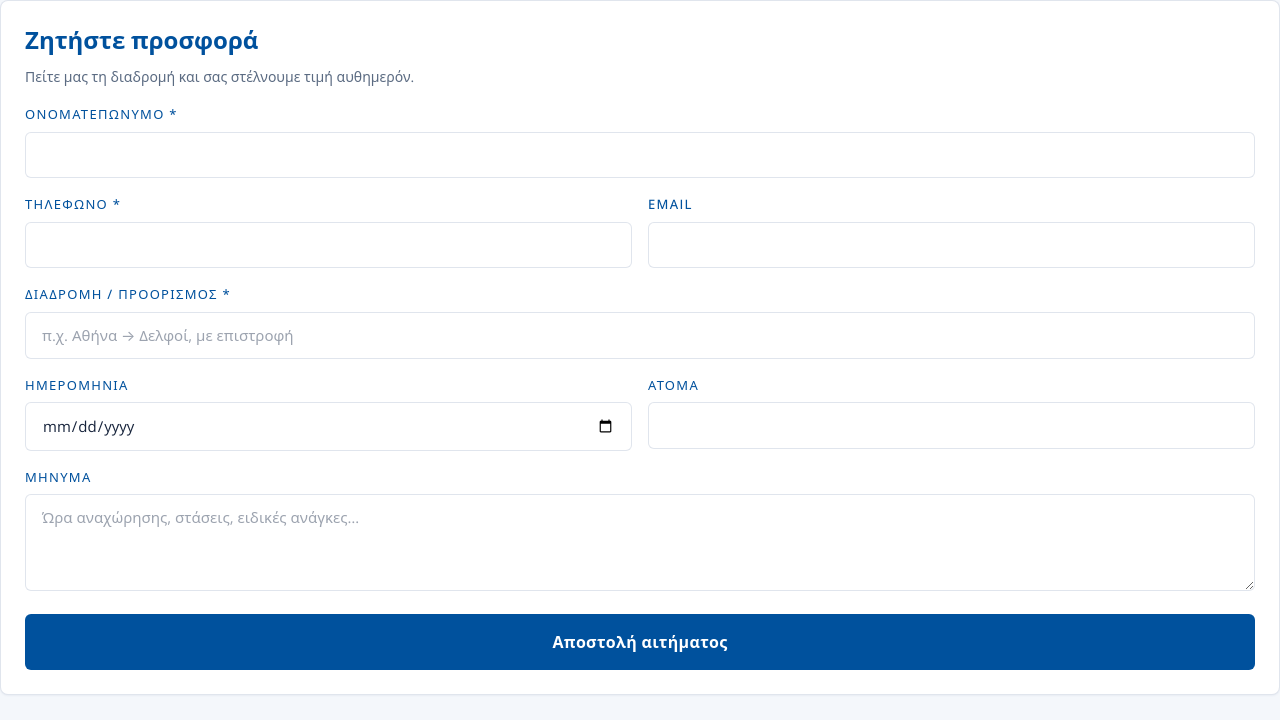
Test: PoylmanQuoteForm › αποτυχία κρατά τη φόρμα και δείχνει μήνυμα σφάλματος
The image size is (1280, 720).
Type "Μαρία Π." into the field labelled "Ονοματεπώνυμο *" at [640, 155], box [25,132,1255,178]
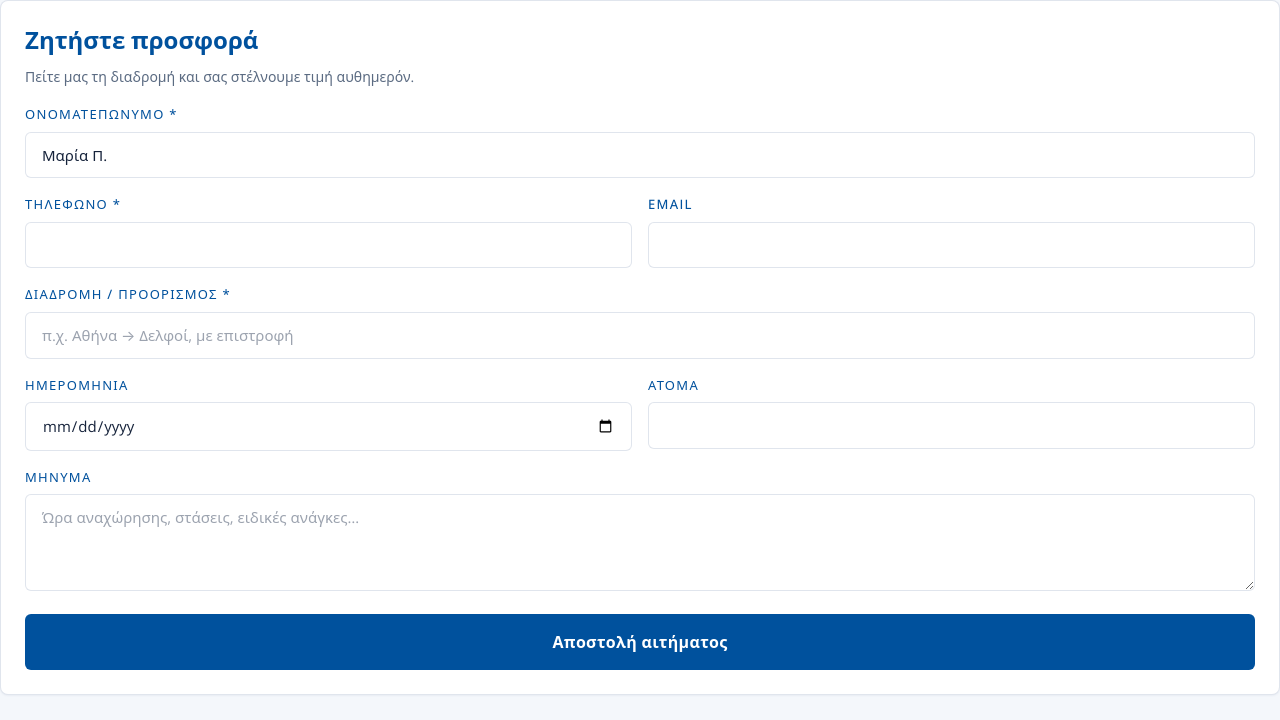
Type "6900000000" into the field labelled "Τηλέφωνο *" at [328, 245], box [25,222,632,268]
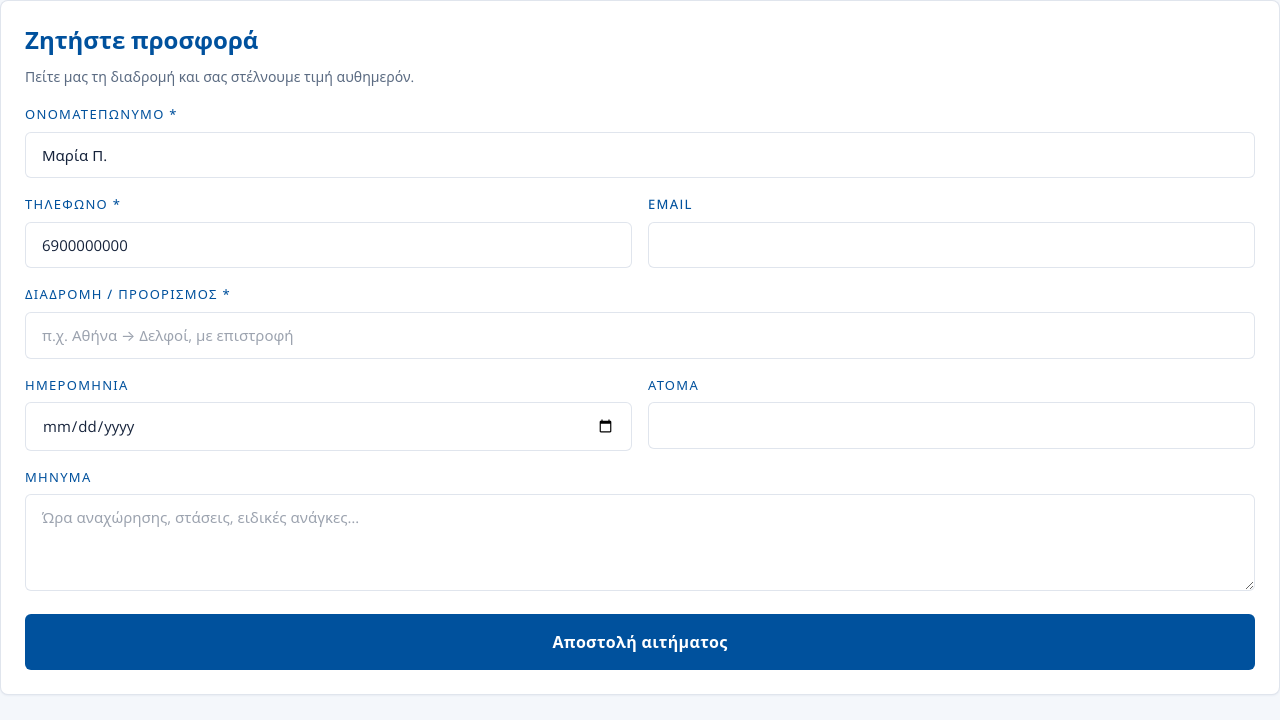
Type "Αθήνα → Δελφοί" into the field labelled "Διαδρομή / Προορισμός *" at [640, 335], box [25,312,1255,359]
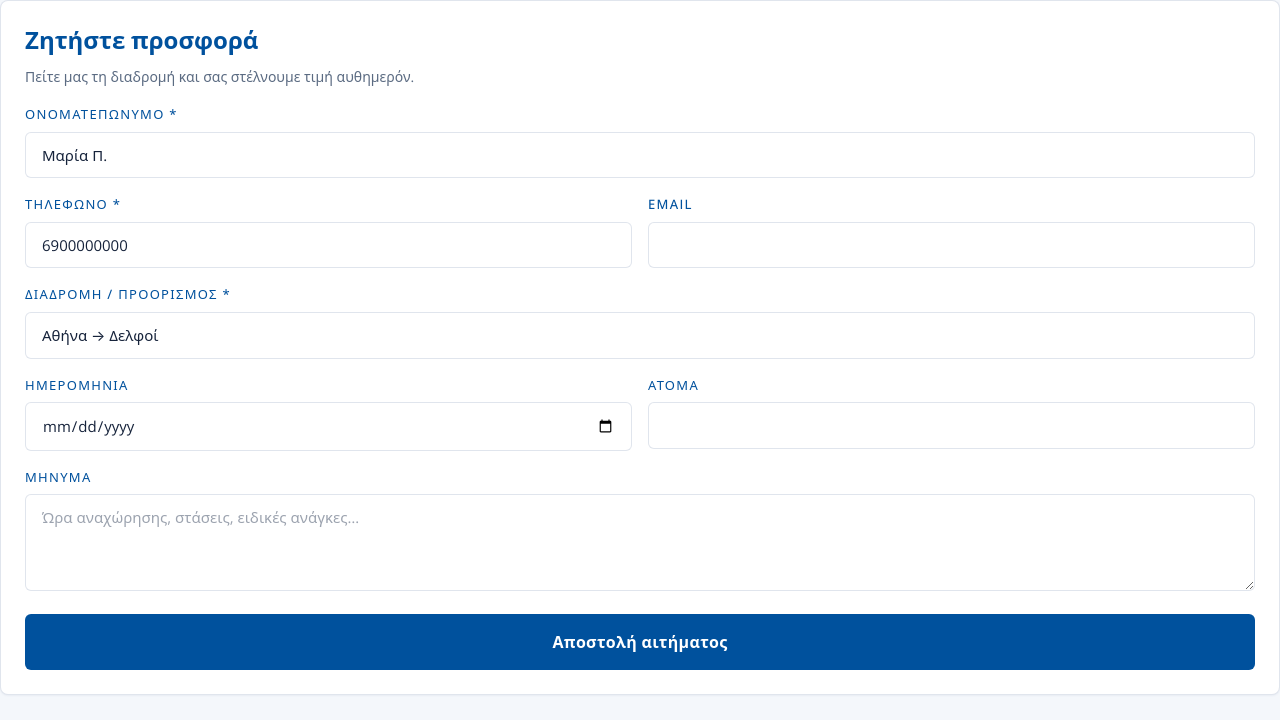
Click the button "Αποστολή αιτήματος" at [640, 642], box [25,614,1255,670]
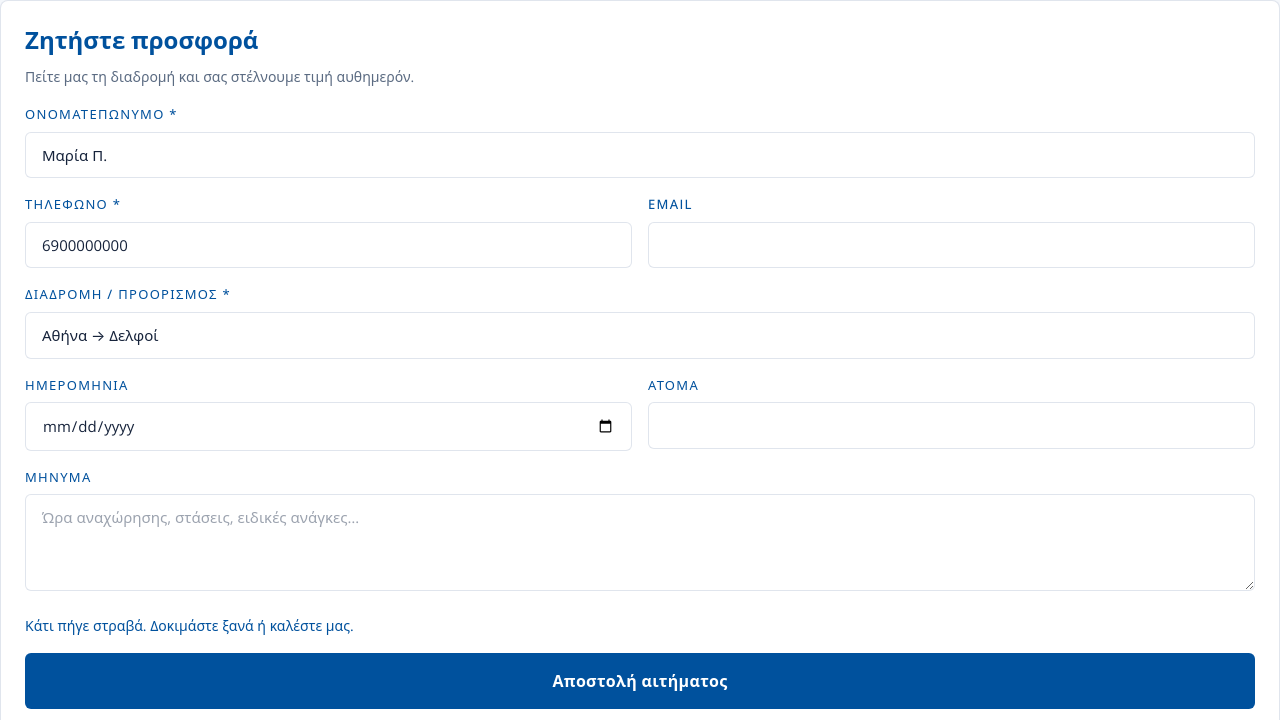
Now the text "Κάτι πήγε στραβά. Δοκιμάστε ξανά ή καλέστε μας." is shown, box [25,616,354,635]
